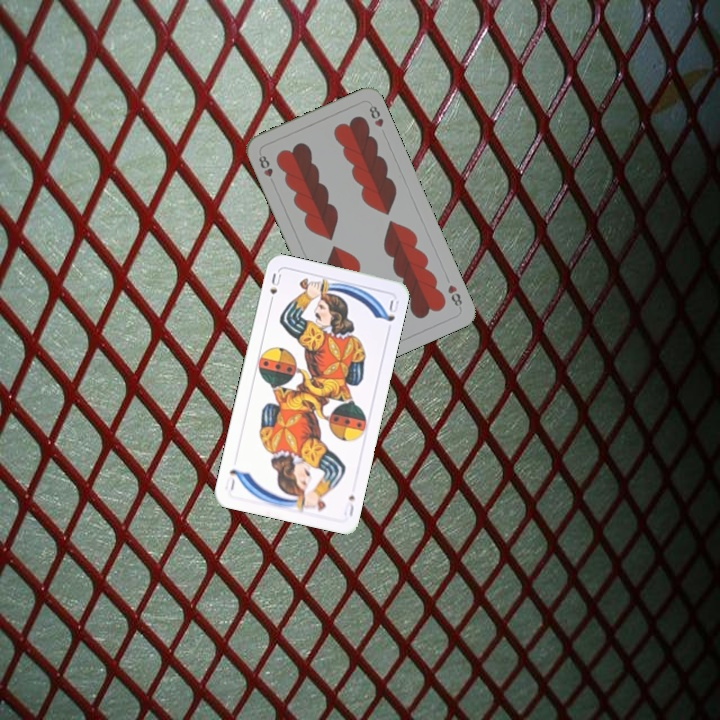H8: (444, 280, 465, 312), (254, 151, 276, 179)
SU: (265, 269, 284, 308), (340, 491, 357, 519)
